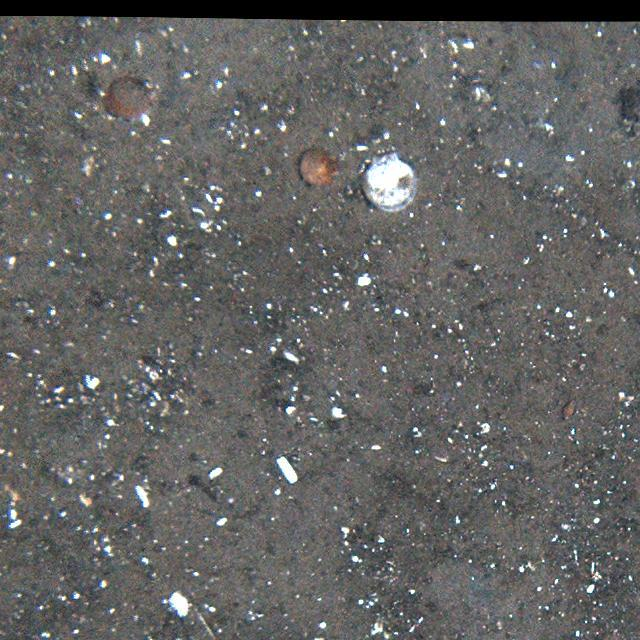scallop: (107, 74, 154, 119), (299, 145, 339, 187)
